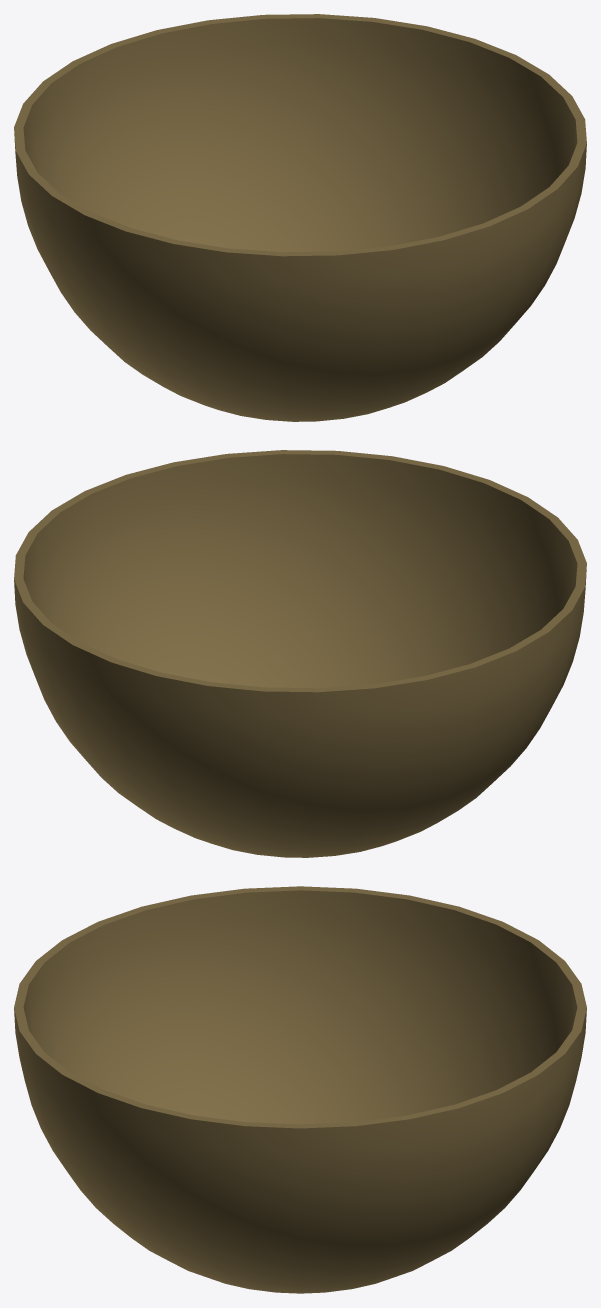
Rendered from SM_SemiSphere.fbx.
The picture shows the model from 3 angles, top to bottom: view 1: azimuth 30°, elevation 25°; view 2: azimuth 150°, elevation 25°; view 3: azimuth 270°, elevation 25°; orthographic projection.
Parts seen in each view (by area): view 1: SM_SemiSphere; view 2: SM_SemiSphere; view 3: SM_SemiSphere.
Part boxes in pixels (x1,y1,x2,y2): SM_SemiSphere: (14, 14, 586, 421); SM_SemiSphere: (14, 450, 586, 857); SM_SemiSphere: (14, 886, 586, 1293).
Size of the model in its own units: 5172 by 2586 by 5172.
